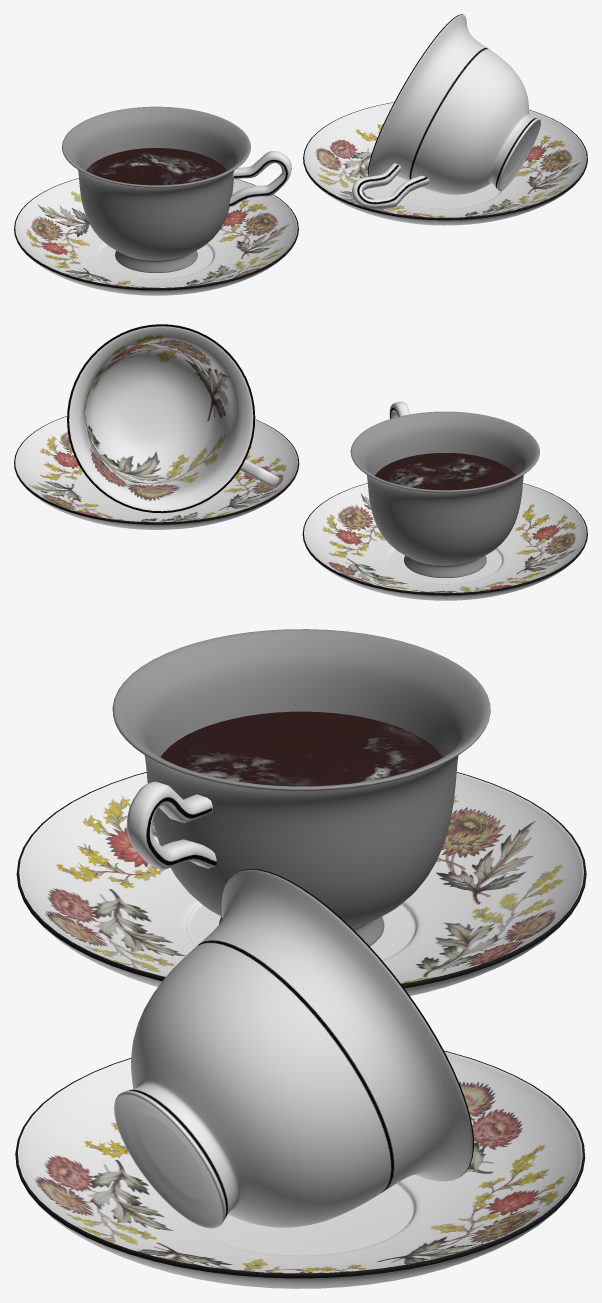
Rendered from Cup_tea-s.fbx.
The picture shows the model from 3 angles, top to bottom: view 1: azimuth 30°, elevation 25°; view 2: azimuth 150°, elevation 25°; view 3: azimuth 270°, elevation 25°; orthographic projection. The views are drawn at different scales.
Parts seen in each view (by area): view 1: Line008, Line004, Line003, Line007, Object002; view 2: Line008, Line004, Line003, Line007, Object002; view 3: Line008, Line004, Line007, Line003, Object002.
Boxes of the visible parts, x1,y1,x2,y2 form: Line008: (352,14,540,209); Line004: (62,106,291,272); Line003: (14,178,298,295); Line007: (303,102,587,225); Object002: (86,148,226,185); Line008: (67,324,279,513); Line004: (350,401,539,577); Line003: (302,483,587,600); Line007: (14,416,299,529); Object002: (374,453,515,490); Line008: (114,869,473,1228); Line004: (112,629,490,946); Line007: (15,1050,585,1288); Line003: (16,772,586,995); Object002: (160,711,442,786).
Size of the model in its own units: 37.89 by 11.41 by 17.51.
Materials: 4 (3 with a texture image).
